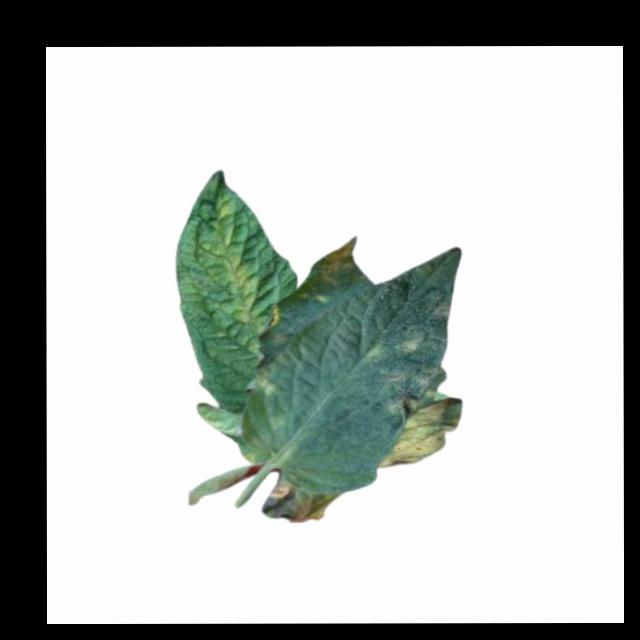Leaf_Mold: (373, 364, 464, 470), (202, 187, 255, 326), (263, 472, 335, 524), (301, 236, 362, 288)
